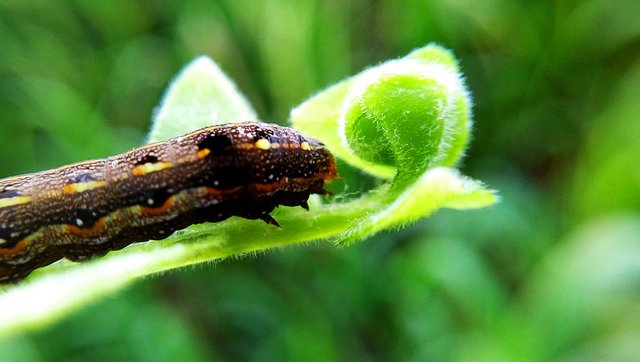Armyworm: (1, 109, 335, 294)
